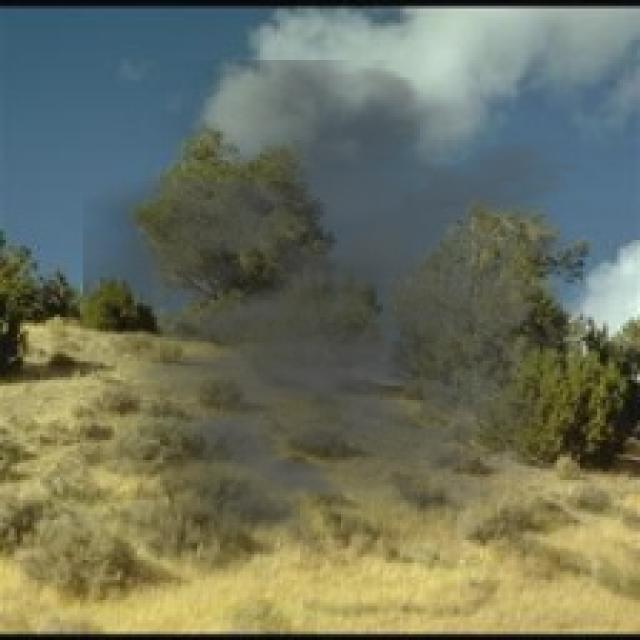smoke: (83, 60, 634, 580)
